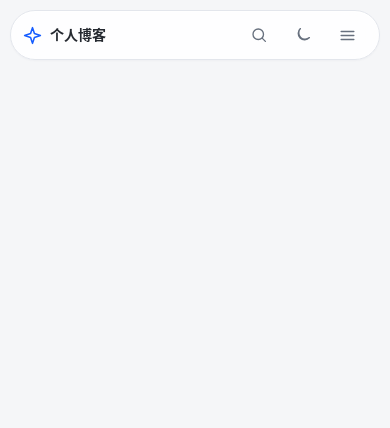
Test: Navbar › applies the active class to the mobile menu links too
Note: 移动端面板平时是 v-if 关着的，先展开。
Click the button with class "menu-toggle": (347, 35) [325, 13, 369, 57]
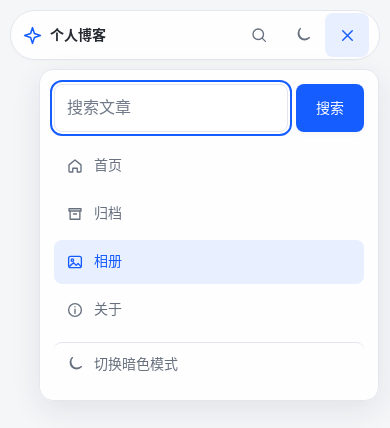
expect the link "相册" is shown: met, box [54, 240, 364, 284]
